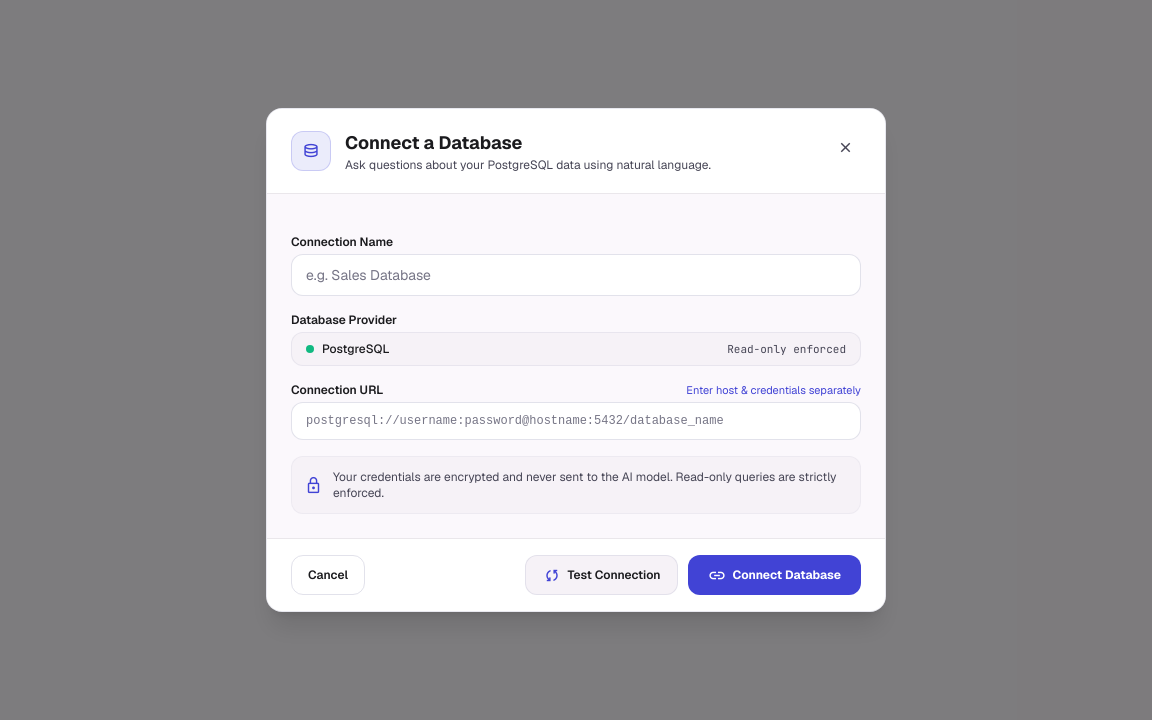
Test: Margin SQL Assistant Workflows › opens ConnectDatabaseModal and handles test connection and submit
The width and height of the screenshot is (1152, 720).
Later steps or results of the test are not shown.
Check: the heading "Connect a Database" is shown, box [345,131,522,154]
Check: the text "Read-only enforced" is shown, box [727,341,846,357]
Type "My Test DB" into the field labelled "Connection Name". click: (576, 275)
box: [291,254,861,296]
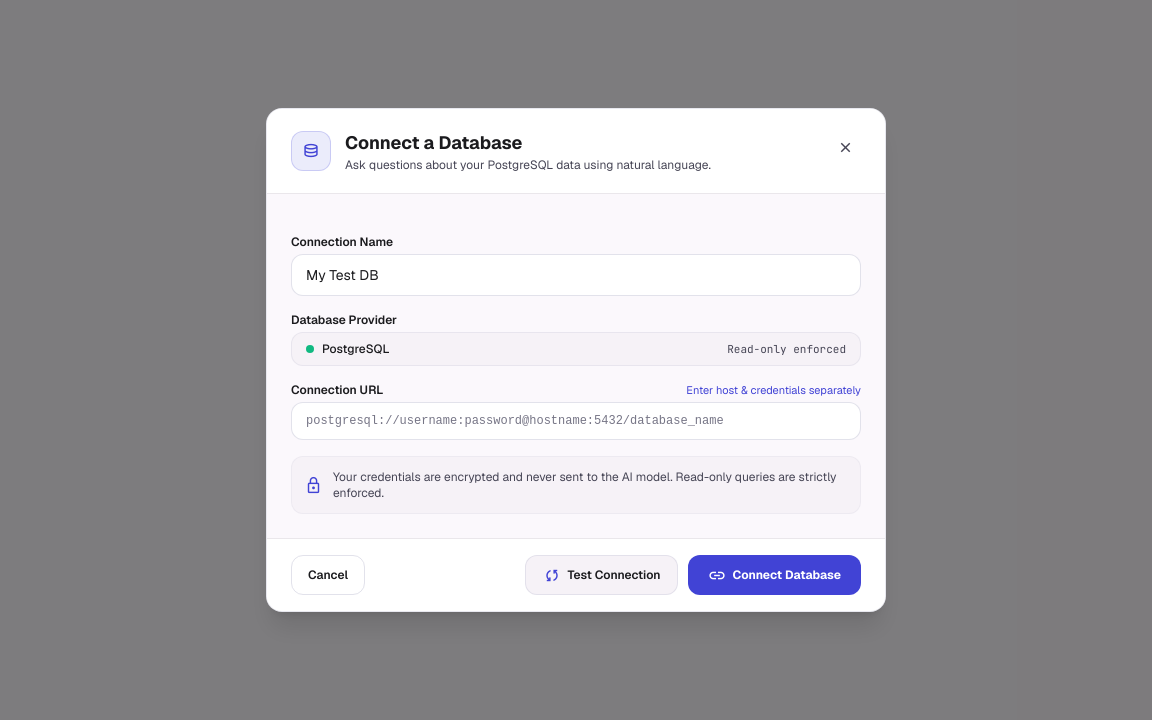
Type "postgresql://user:secret@host:5432/testdb" into the field labelled "Connection URL". click: (576, 421)
box: [291,402,861,440]
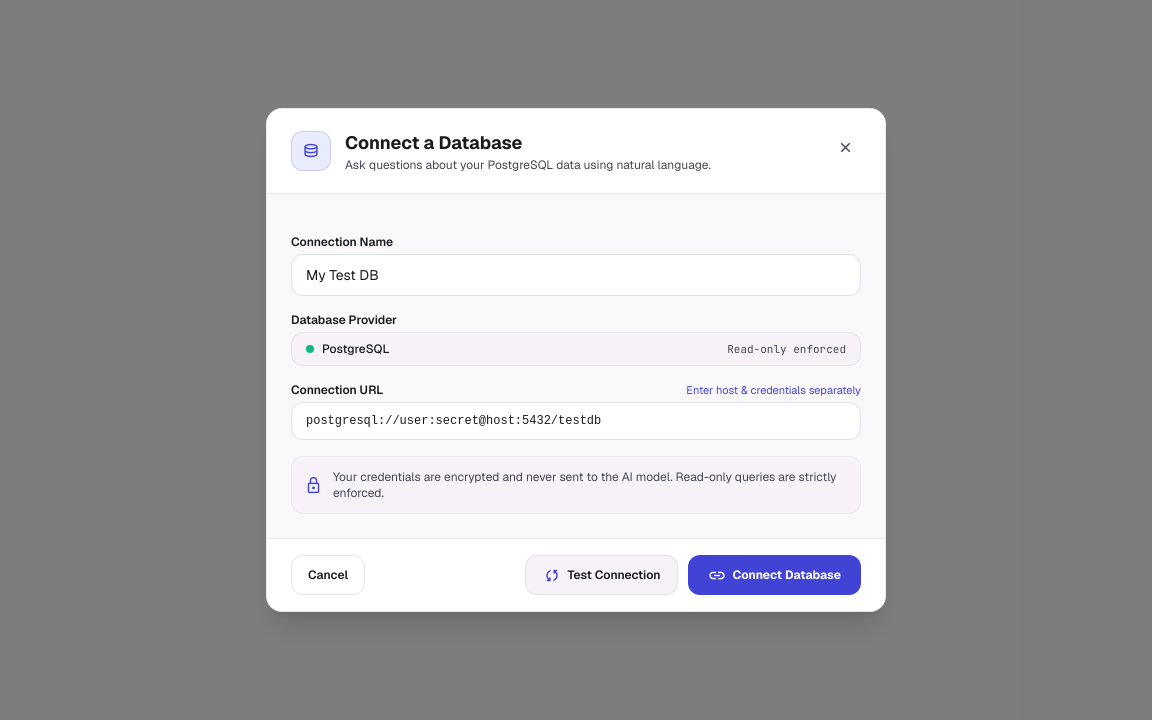
Click the button "Test Connection". click: (602, 575)
box: [526,555,678,595]
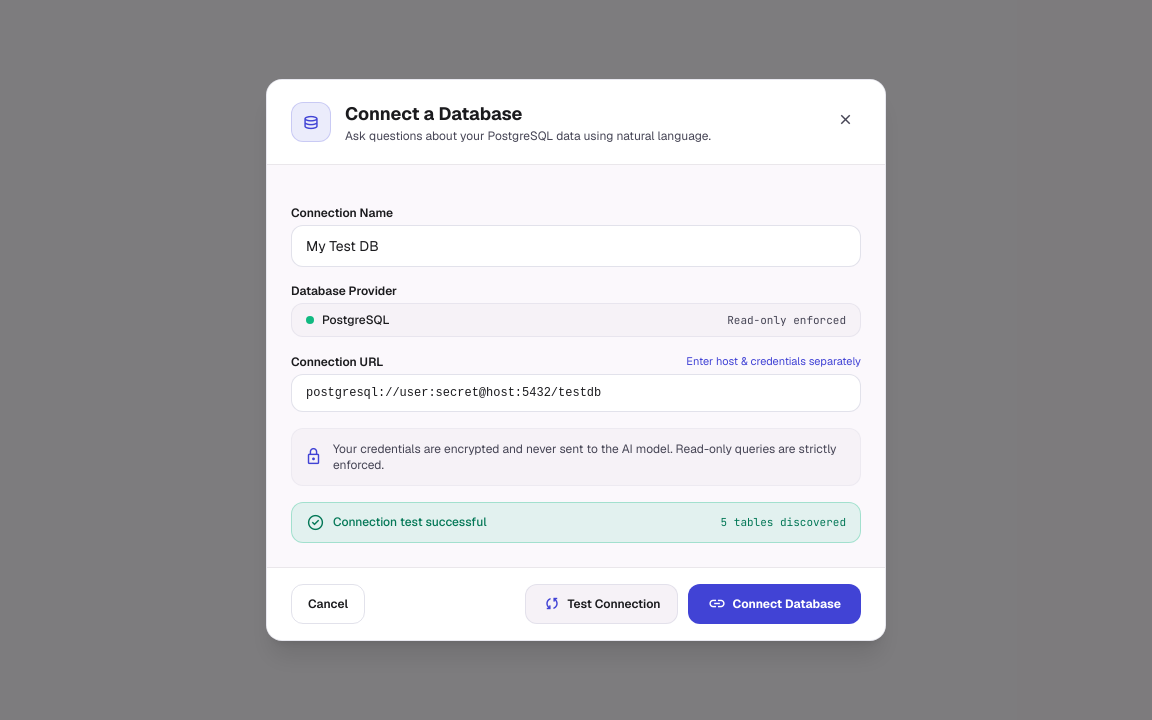
Check: the text "Connection test successful" is shown, box [333,514,487,530]
